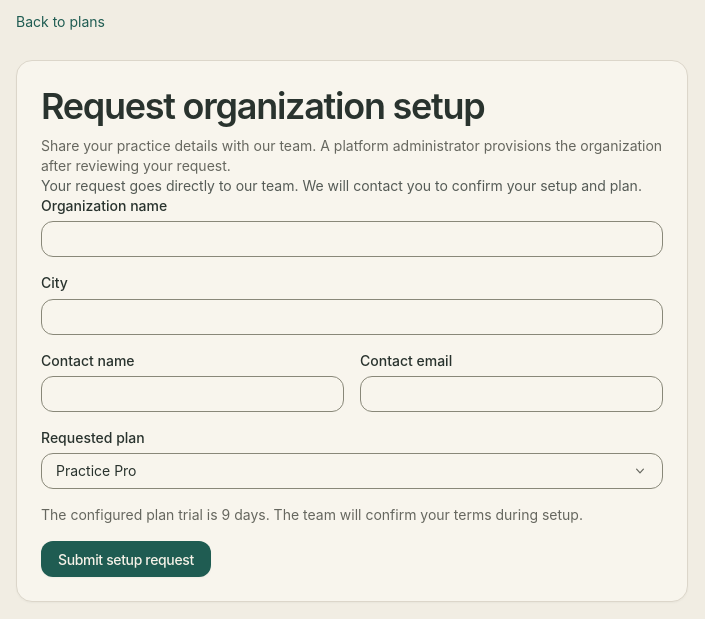
submits a request for the selected configured plan without provisioning or collecting credentials
Expected: the text "configured plan trial is 9 days" is shown, [41,506,583,523]
Type "Care & Health" into the field labelled "Organization name".
click(352, 239); type("Care & Health")  # box [41,221,663,257]
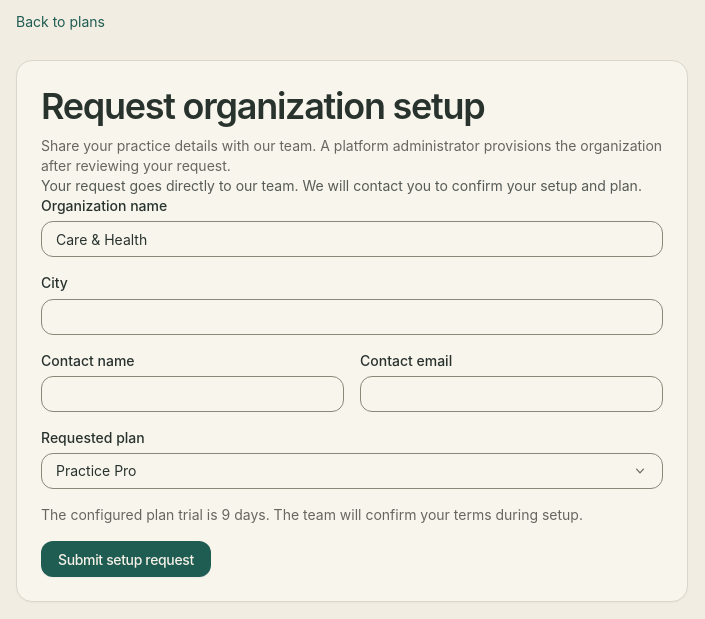
Type "Pune" into the field labelled "City".
click(352, 317); type("Pune")  # box [41,299,663,335]
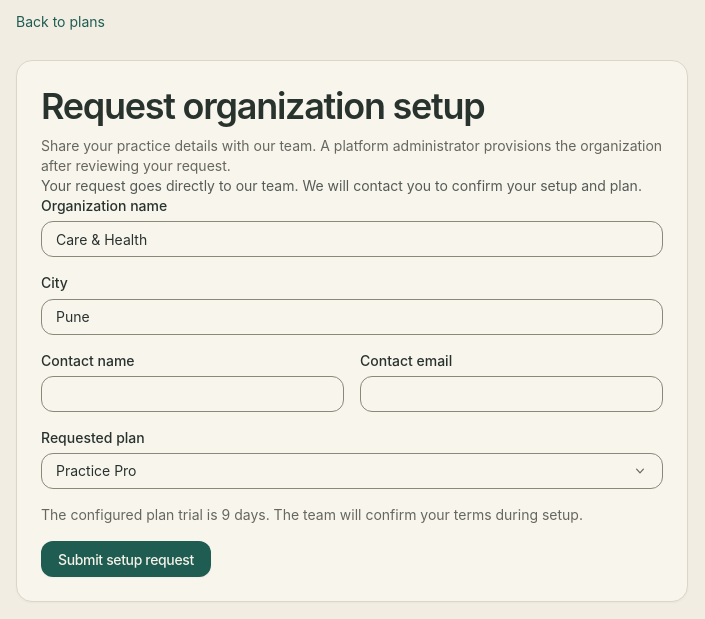
Type "Asha" into the field labelled "Contact name".
click(192, 394); type("Asha")  # box [41,376,344,412]
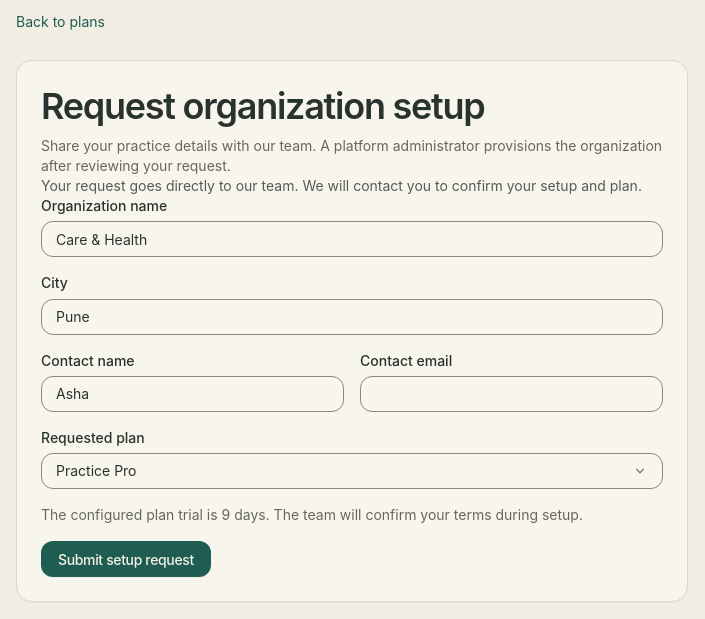
Type "asha@example.test" into the field labelled "Contact email".
click(512, 394); type("asha@example.test")  # box [360,376,663,412]
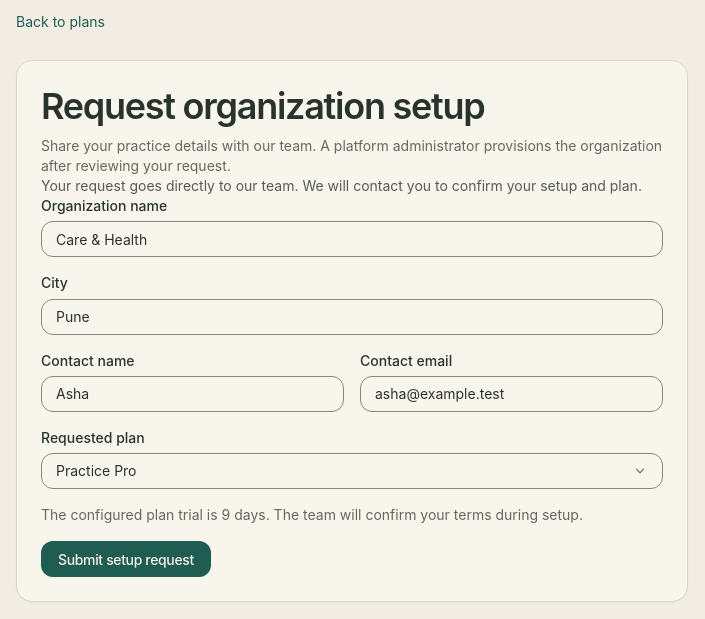
Submit the form named "Submit setup request", box [41,196,663,577]
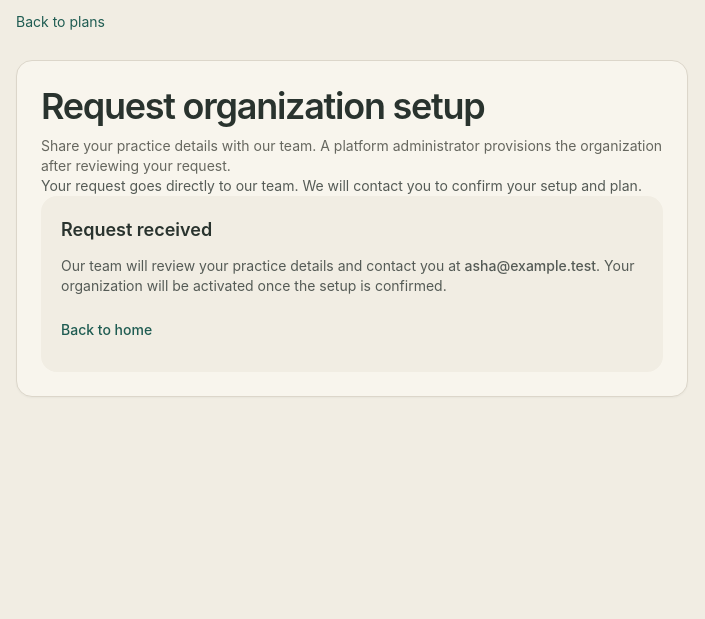
Expected: the heading "Request received" is shown, [61,219,212,240]
